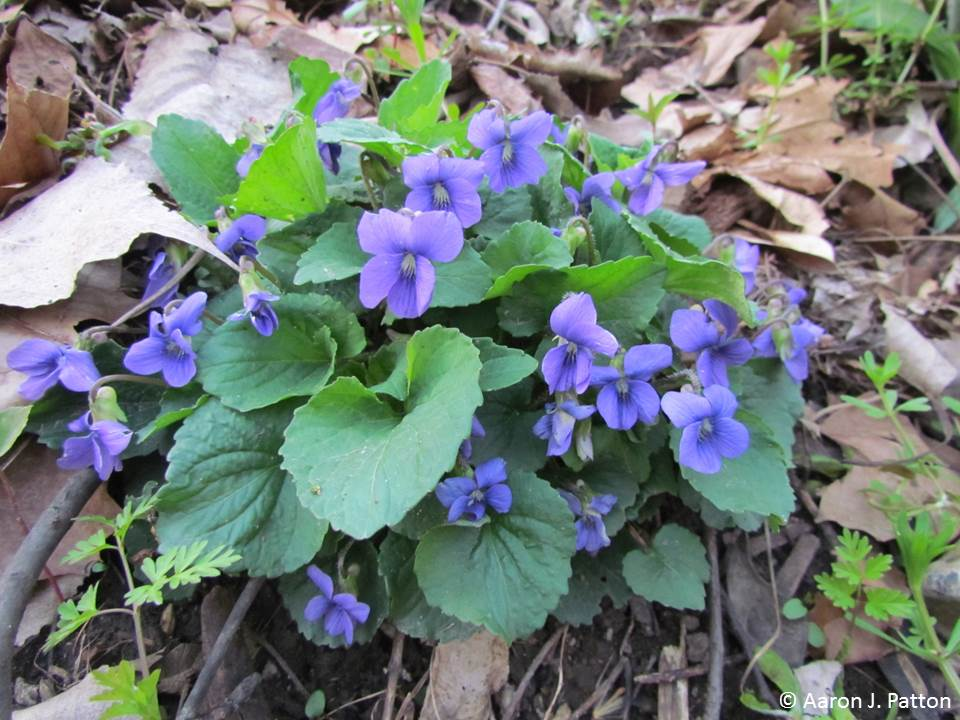violet: (354, 203, 462, 315), (652, 382, 762, 483), (533, 290, 621, 390), (656, 295, 760, 375), (129, 294, 211, 390), (616, 141, 709, 224), (468, 109, 556, 188), (401, 144, 485, 225), (294, 559, 378, 640), (53, 416, 138, 489), (10, 341, 102, 401), (432, 463, 524, 522)
